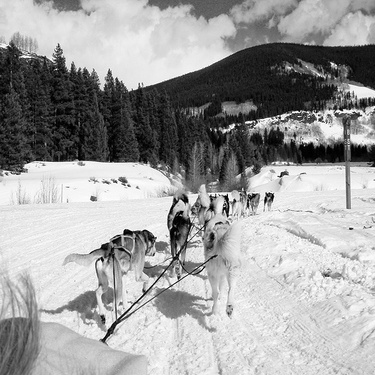dog: (59, 227, 158, 319), (193, 218, 247, 325), (151, 184, 193, 271), (188, 177, 213, 223), (199, 196, 228, 228), (234, 189, 261, 219), (226, 188, 248, 216), (256, 190, 280, 212)
